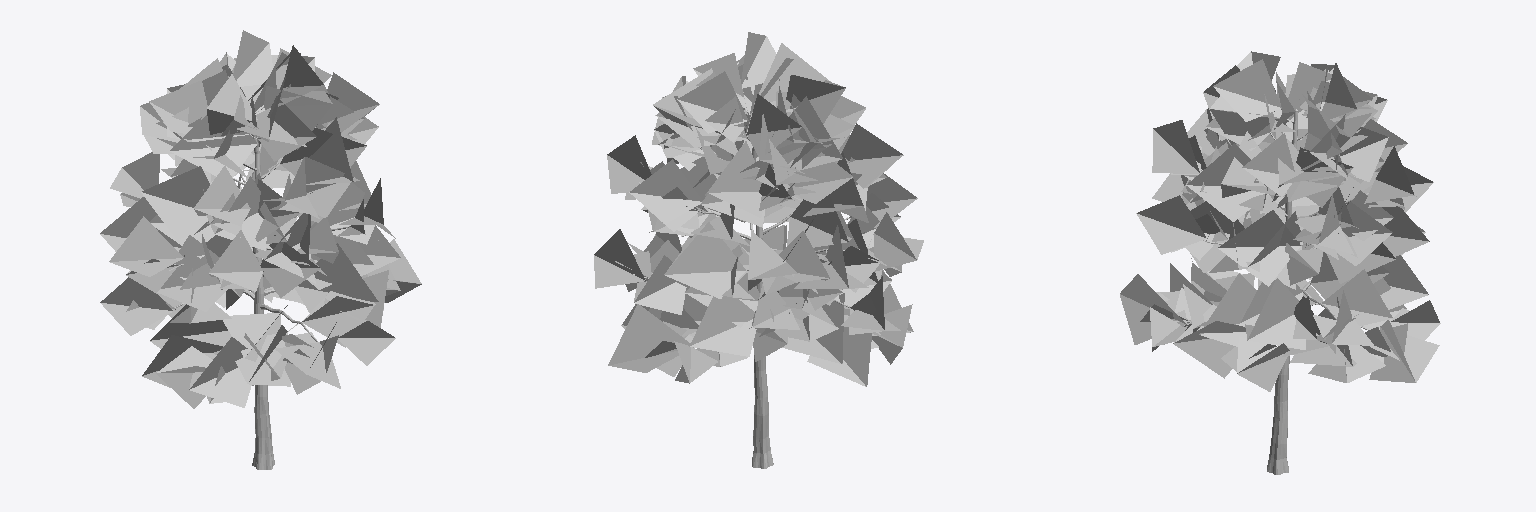
Rendered from beech03.obj.
3 views of the same model, side by side, from view 1: azimuth 30°, elevation 25°; view 2: azimuth 150°, elevation 25°; view 3: azimuth 270°, elevation 25° (orthographic).
Visible parts, largest first — view 1: tree; view 2: tree; view 3: tree.
Part boxes in pixels (x1,y1,x2,y2): tree: (100, 30, 421, 469); tree: (594, 32, 923, 468); tree: (1120, 51, 1440, 474).
Bounding box in the file's own units: 195 × 264 × 183.